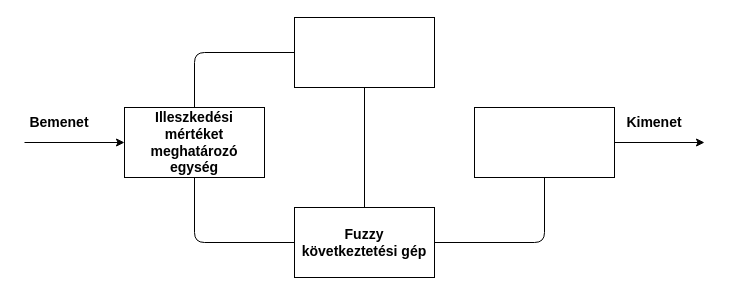
The diagram is 730 pixels wide and 295 high, and some of its shapes have lost their labels. The shapes that lost their labels are listed below. From the top down, each one's centre as x and y in pixels, then its label:
point 364,52: Fuzzy szabálybázis
point 544,142: Defuzzifikációs modul
